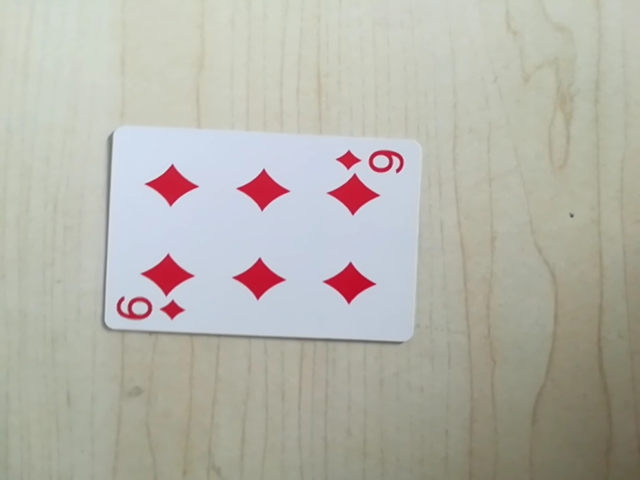fk 6: (332, 142, 407, 179), (114, 293, 186, 328)
